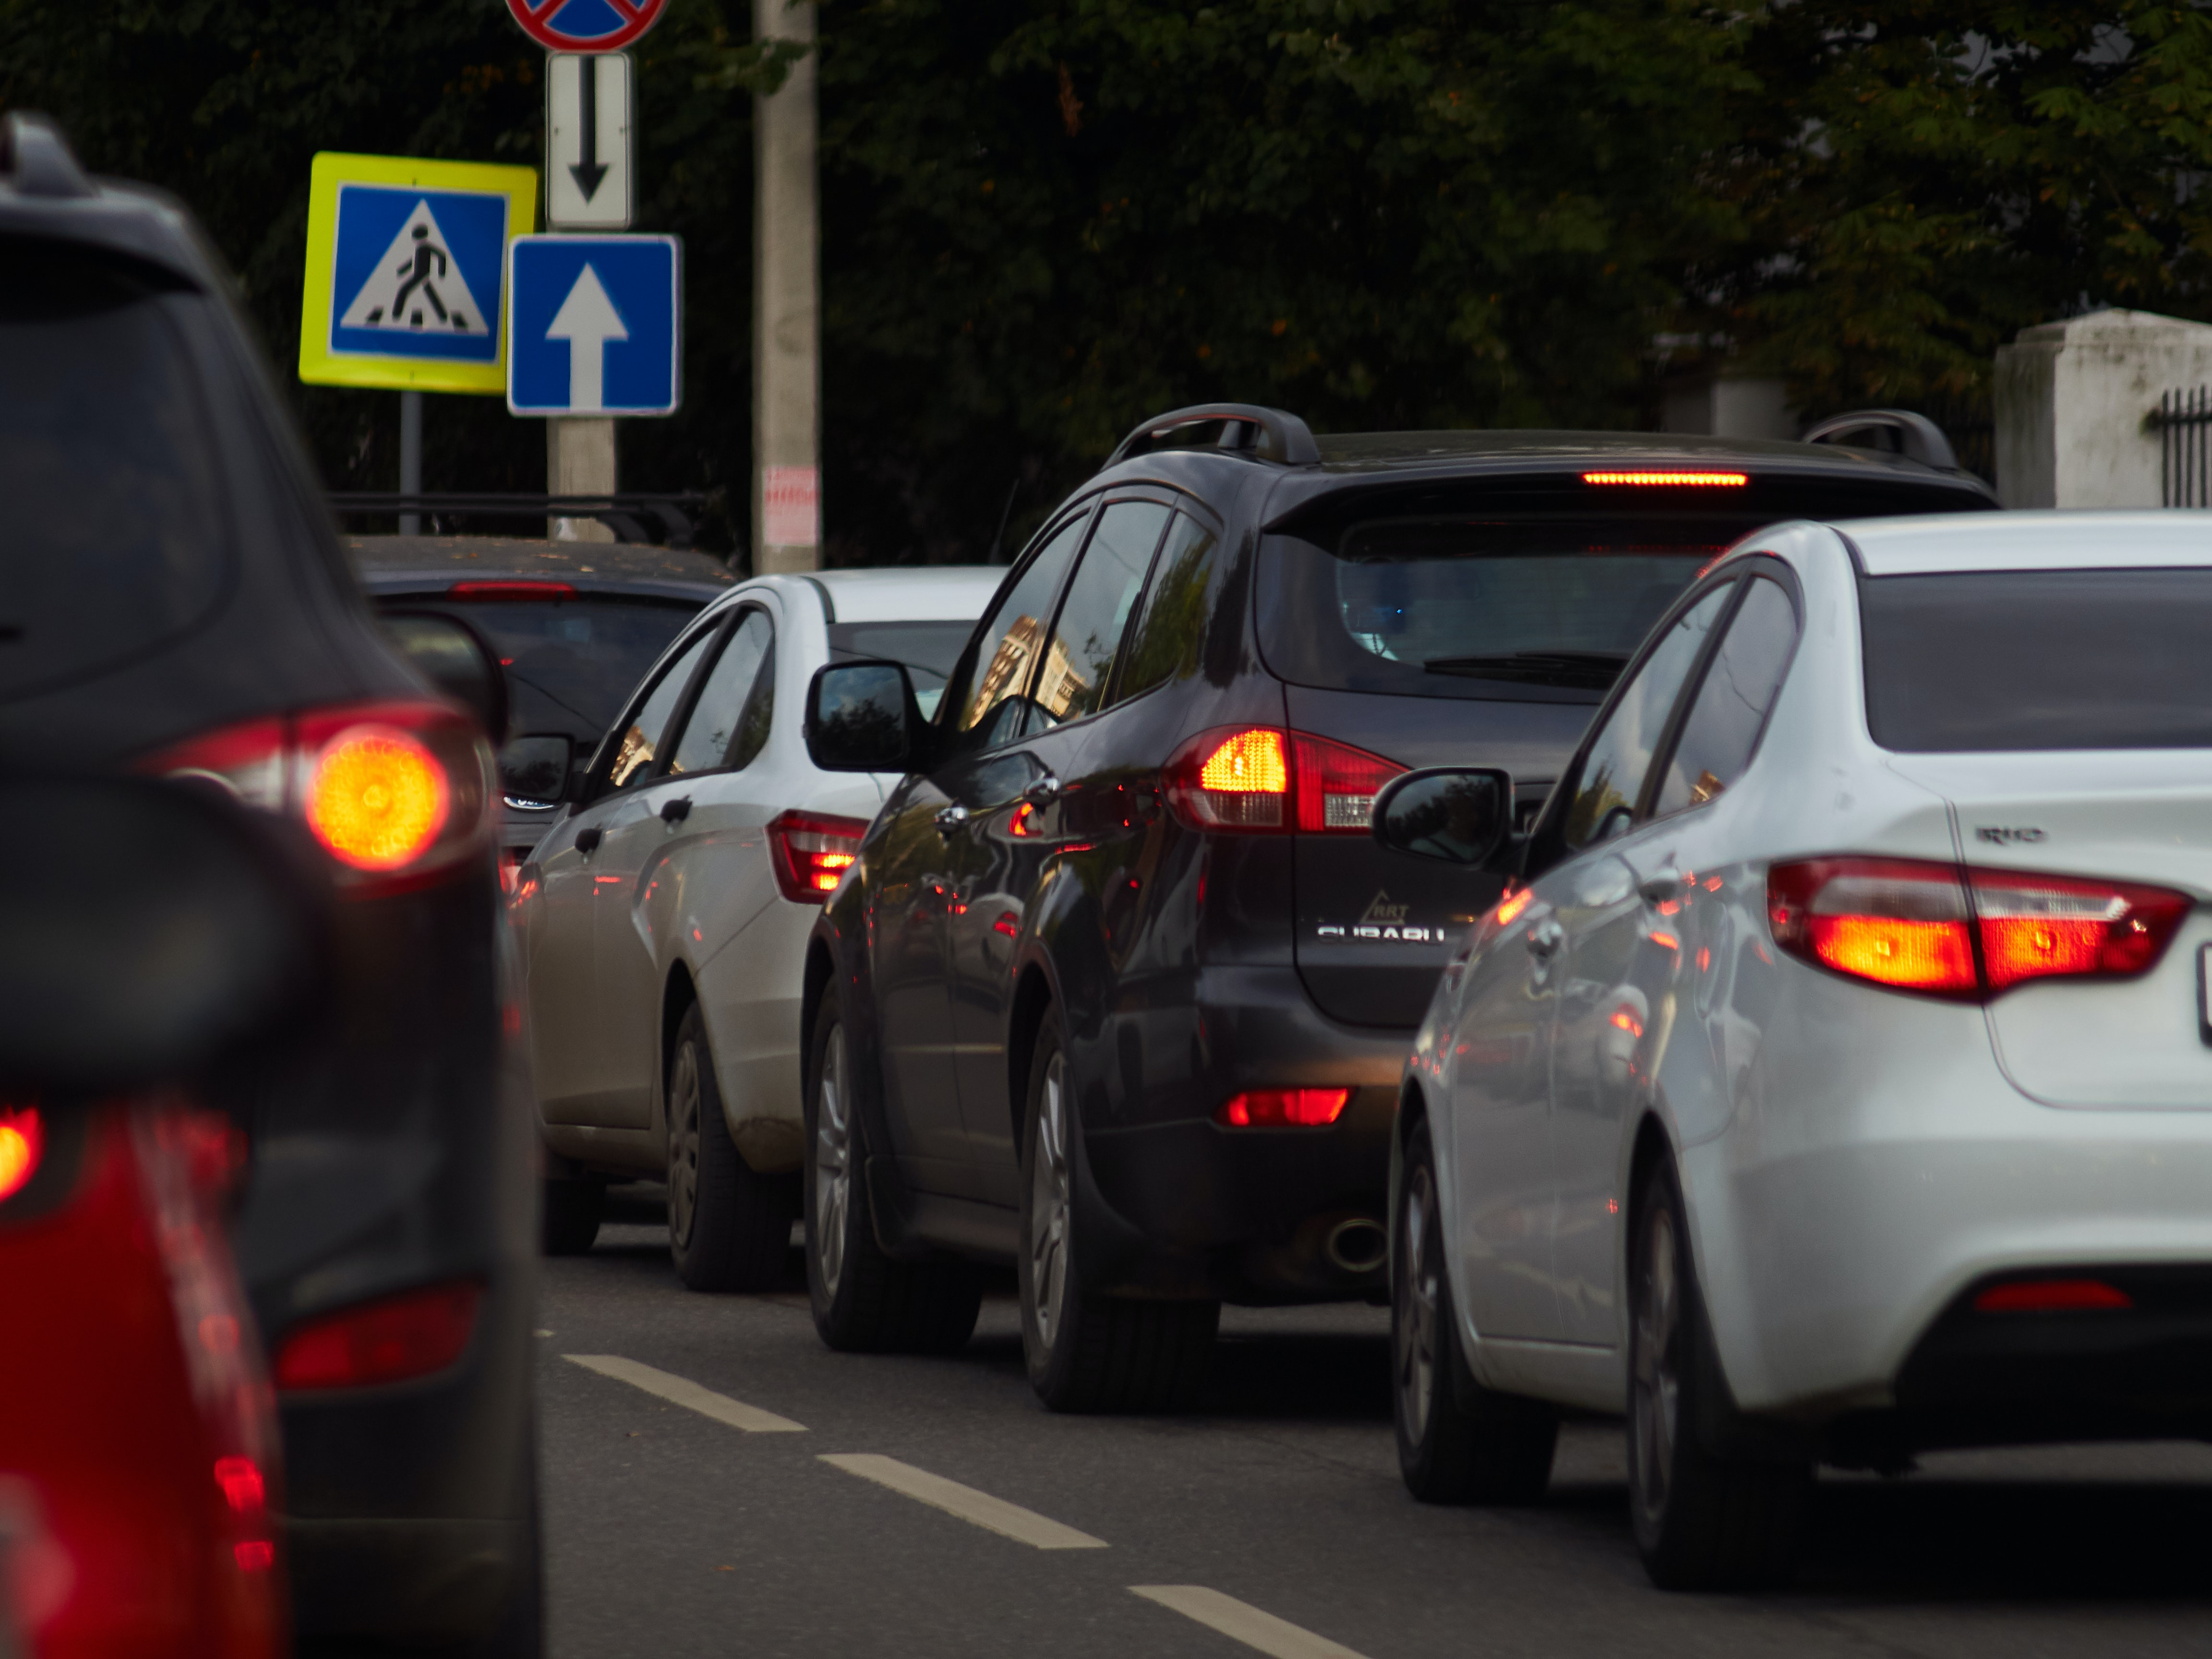car: (1399, 521, 2212, 1574), (782, 406, 1608, 1443), (507, 565, 1043, 1286)
